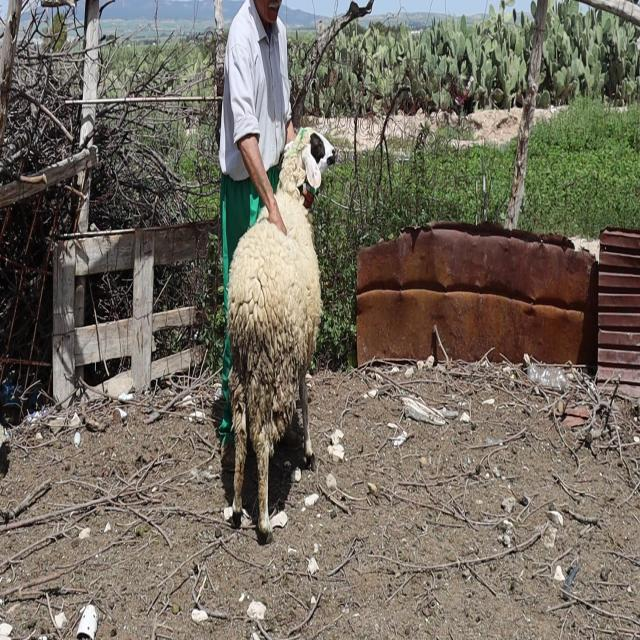Score_3: (227, 127, 336, 541)
